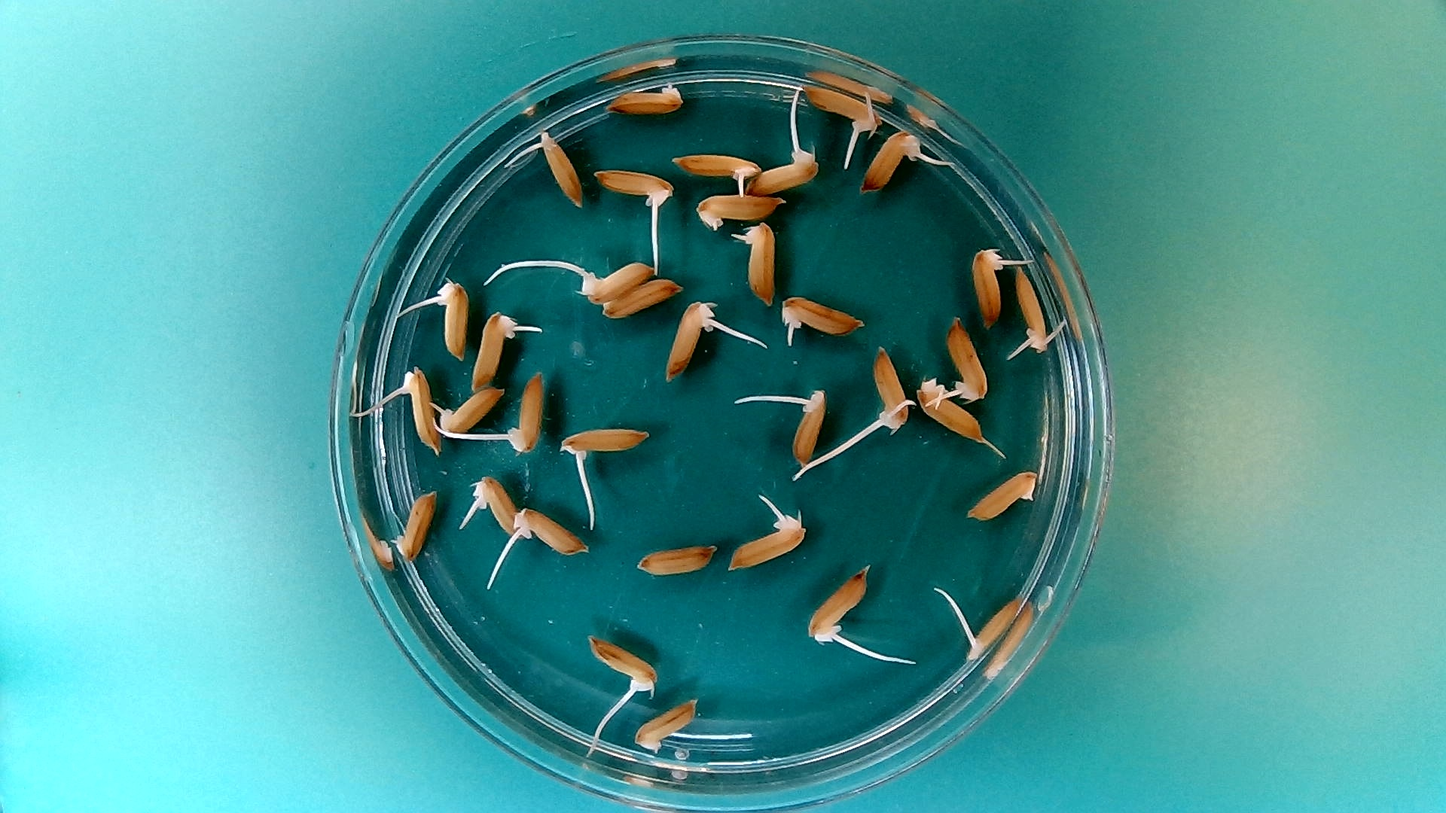no: (963, 463, 1042, 522), (630, 696, 701, 755), (692, 191, 786, 232), (601, 275, 683, 321), (391, 486, 438, 561), (633, 540, 718, 579), (604, 78, 688, 116)
yes: (915, 376, 987, 446), (964, 590, 1029, 666), (800, 81, 883, 137), (724, 513, 801, 573), (469, 306, 523, 391), (587, 635, 660, 697), (808, 570, 868, 644), (432, 382, 508, 439), (777, 294, 867, 341), (858, 129, 923, 194), (868, 341, 911, 437), (511, 506, 590, 558), (946, 313, 990, 404), (533, 131, 584, 209), (664, 299, 713, 379), (502, 367, 546, 455), (744, 147, 819, 196), (1012, 268, 1053, 355), (591, 163, 673, 206), (560, 424, 652, 461), (673, 147, 761, 185), (791, 388, 831, 468), (743, 218, 780, 303), (580, 263, 656, 304), (969, 244, 1005, 329), (433, 282, 470, 362), (474, 476, 522, 537), (402, 372, 437, 448)
